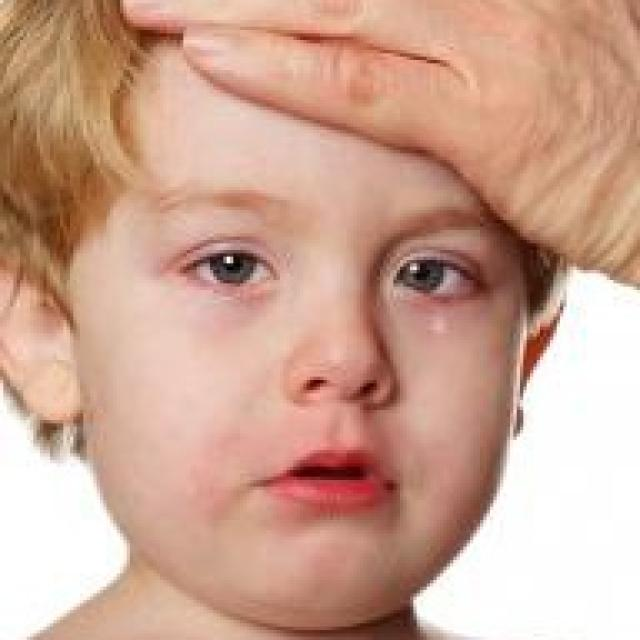Depress: (65, 45, 520, 632)
